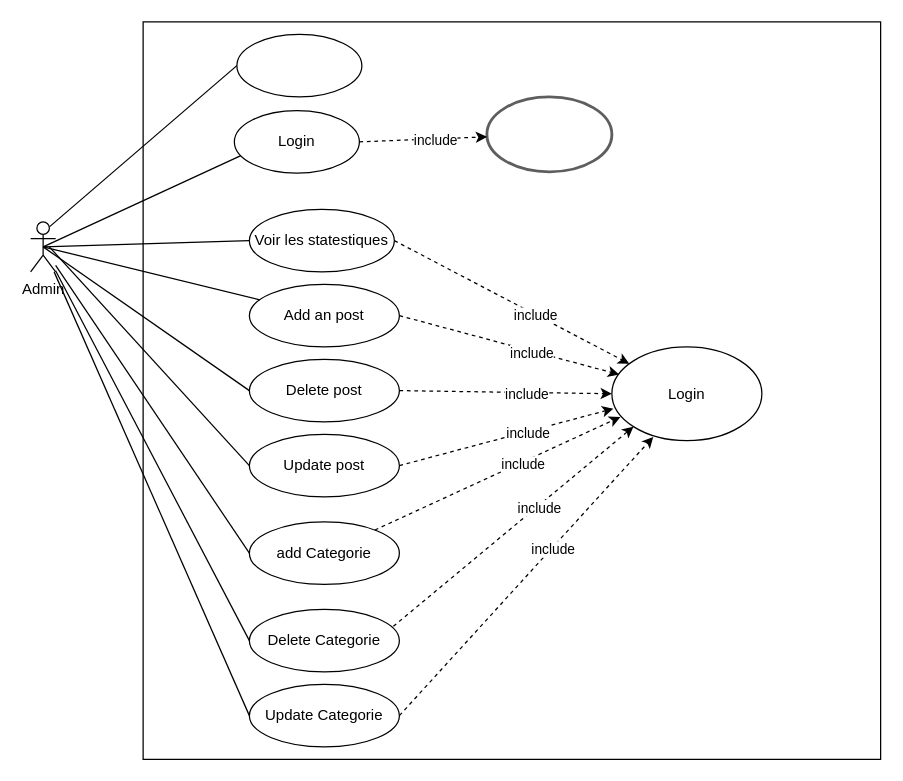
Some shapes in this 903 by 781 pixel diagram are drawn without their labels. The centre of each missing label's shape, as x and y in pixels:
Sign up: the point at 299,65
Verifecation des informations: the point at 549,134
